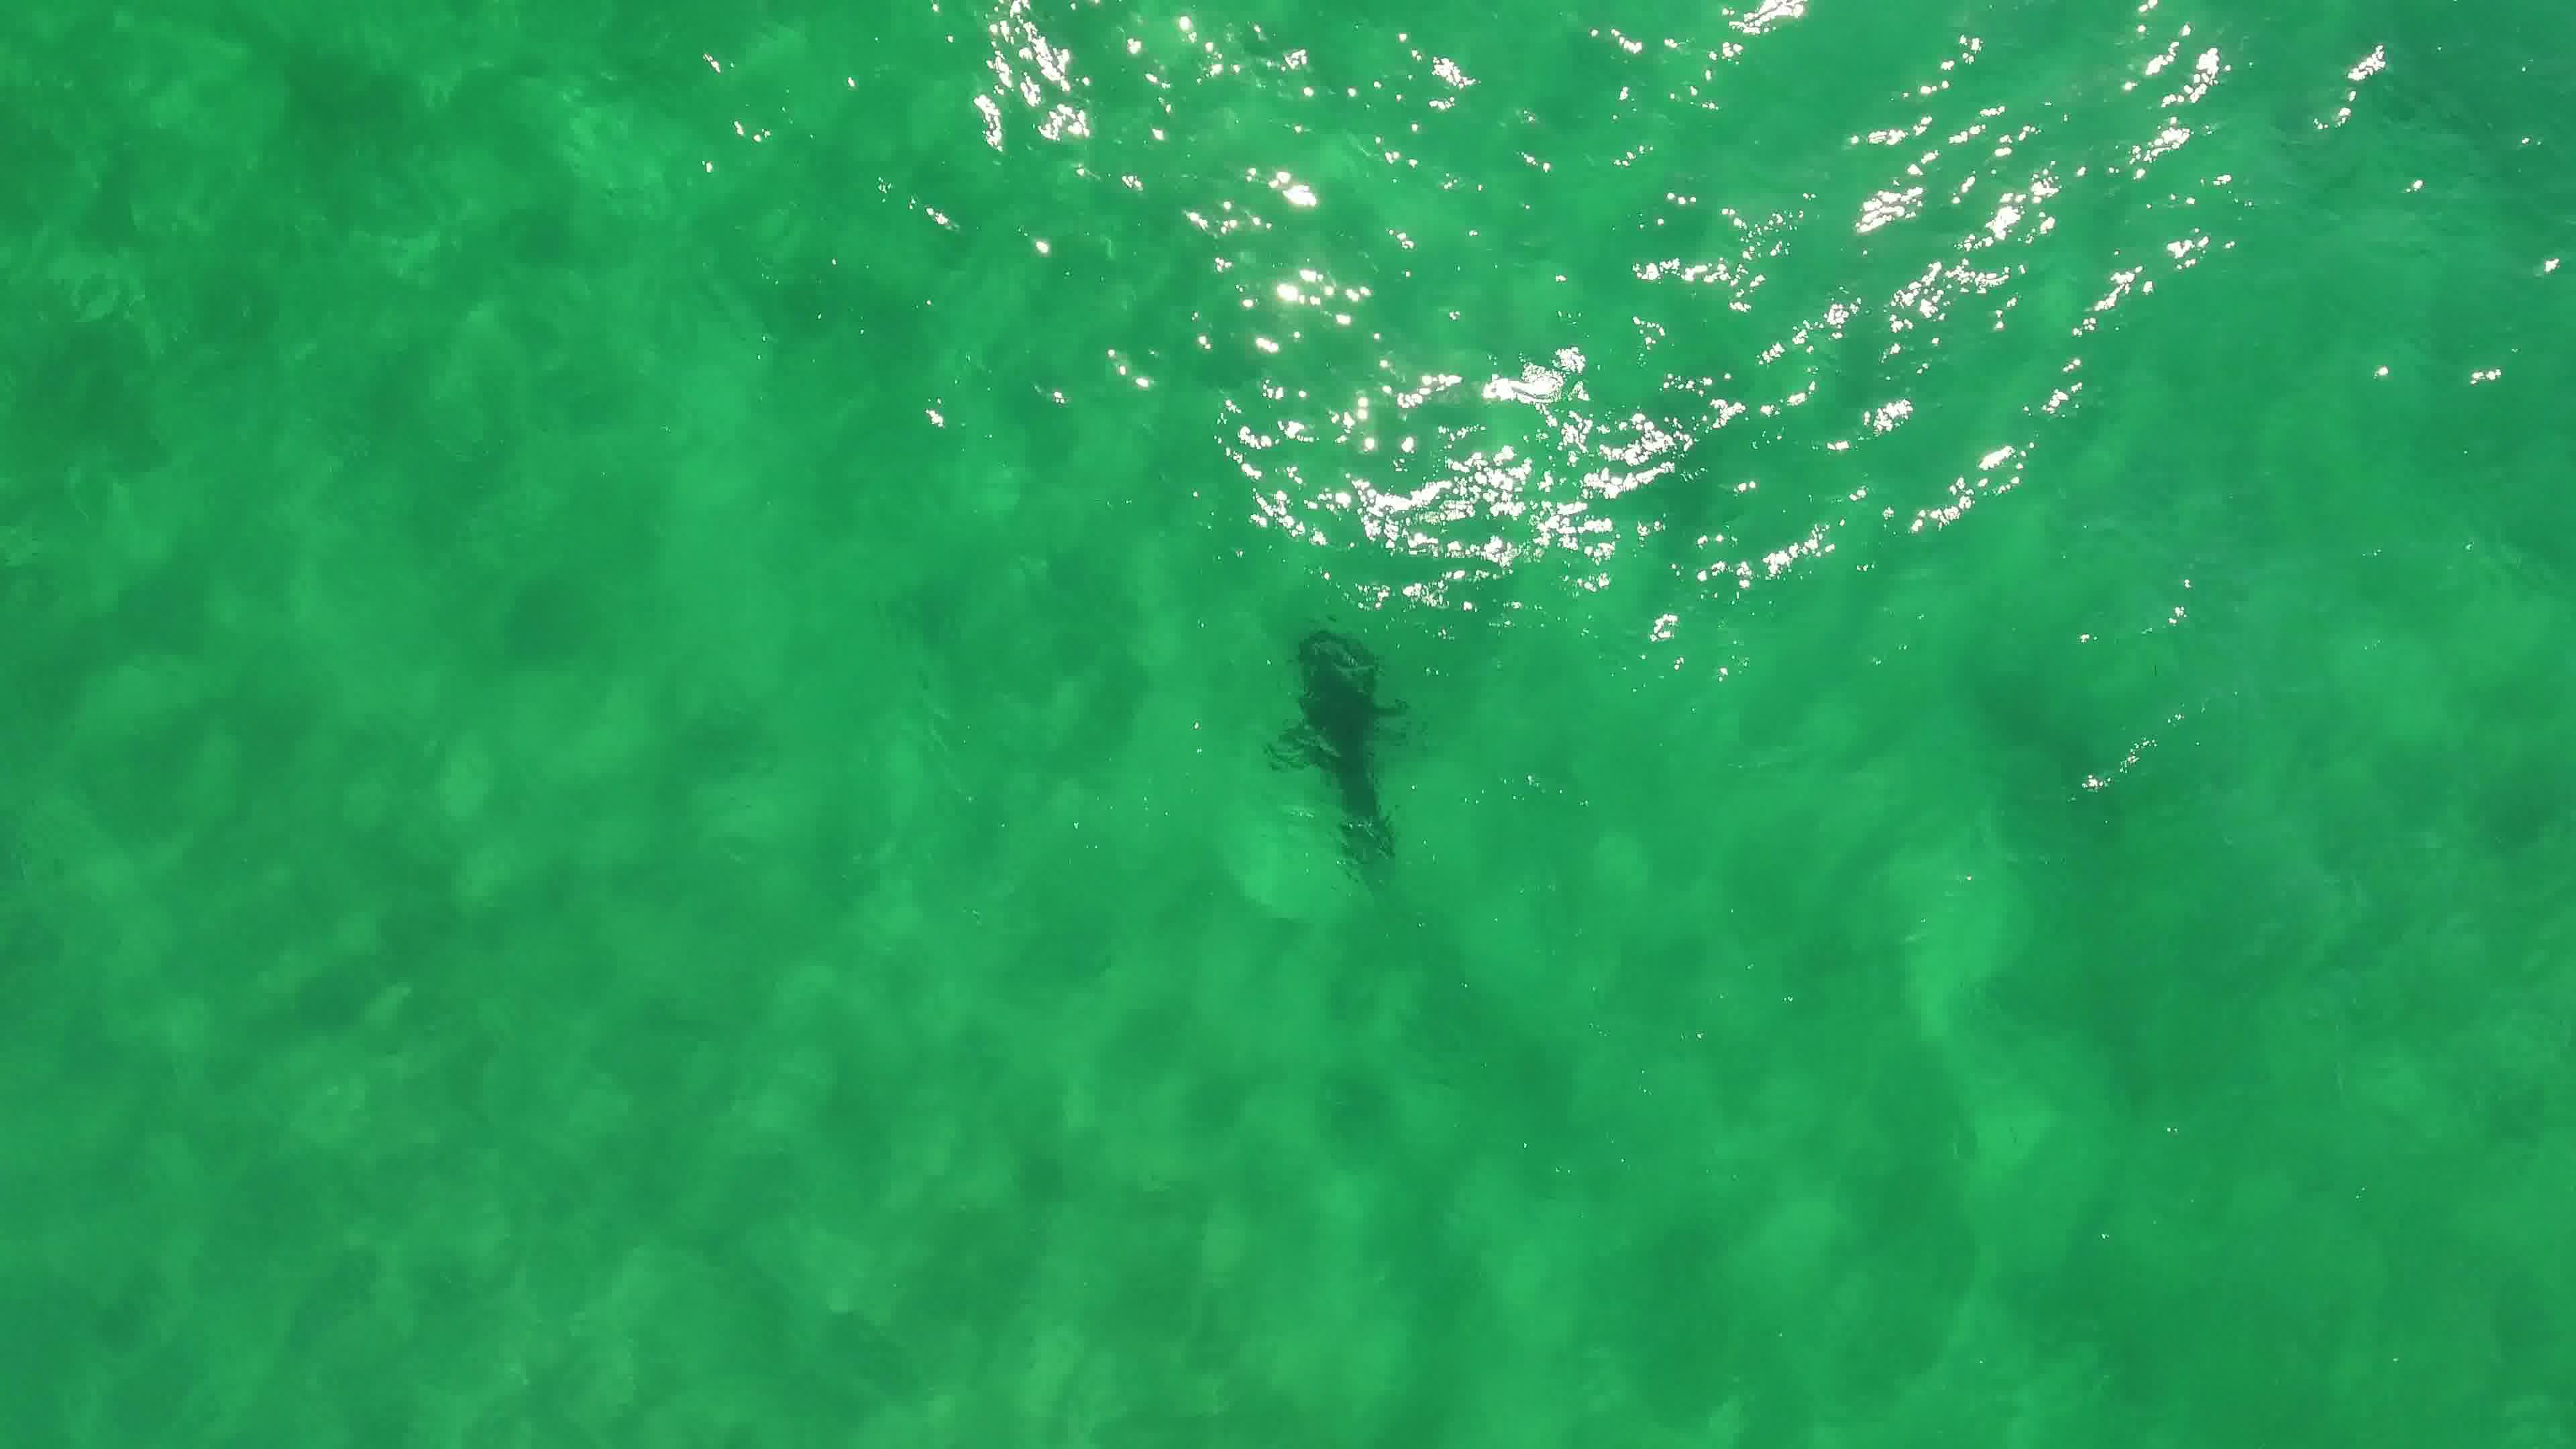shark: (1258, 619, 1422, 892)
